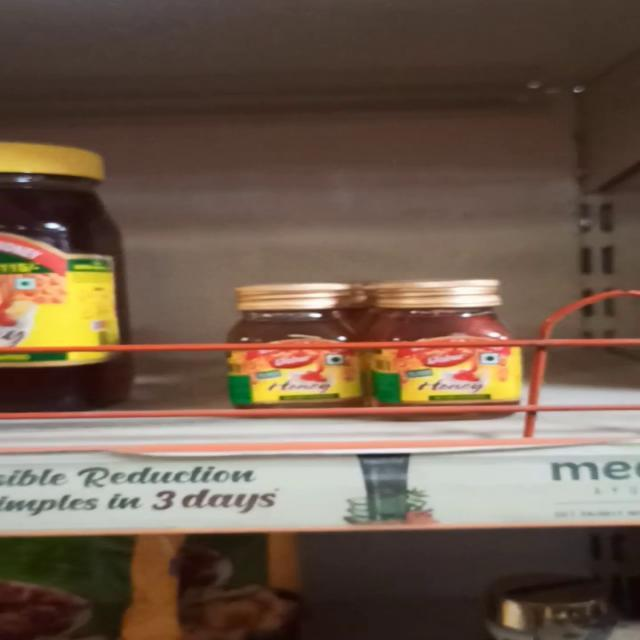Dabur Honey: (374, 283, 530, 408), (237, 284, 365, 400)
